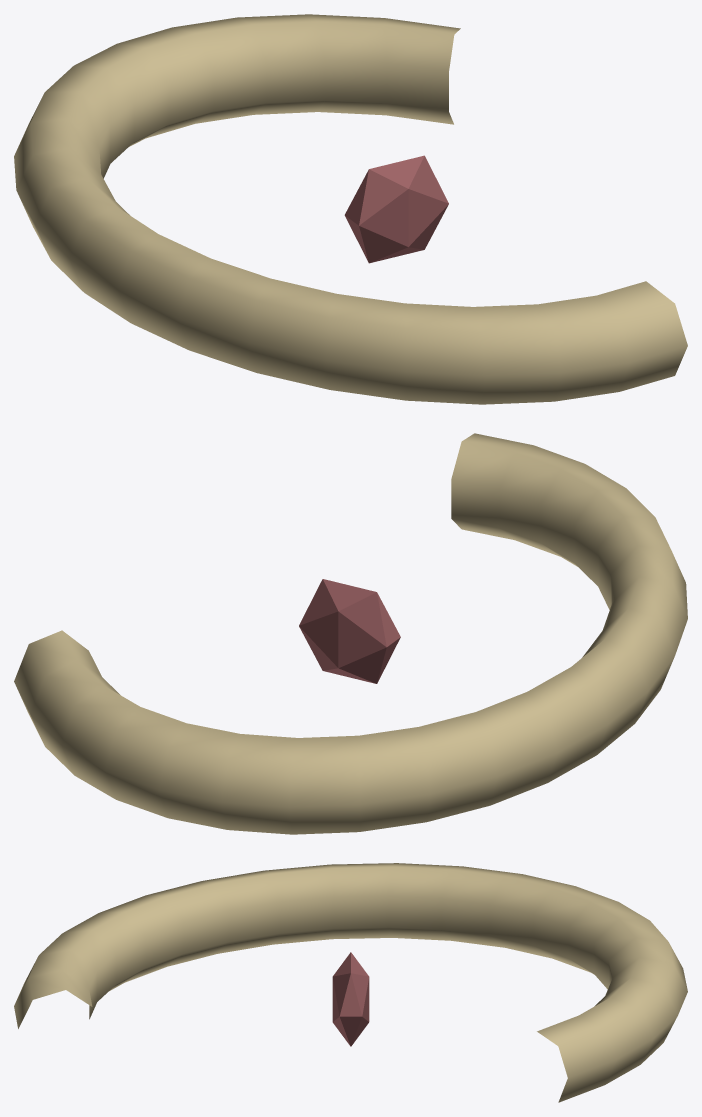
The model's file is wpn_m_09.glb.
The picture shows the model from 3 angles, top to bottom: view 1: azimuth 30°, elevation 25°; view 2: azimuth 150°, elevation 25°; view 3: azimuth 270°, elevation 25°; orthographic projection. The views are drawn at different scales.
Parts seen in each view (by area): view 1: attack_arc, attack_core; view 2: attack_arc, attack_core; view 3: attack_arc, attack_core.
Boxes of the visible parts, box(x1,y1,x2,y2) form: attack_arc: box(14, 14, 687, 404); attack_core: box(344, 155, 448, 263); attack_arc: box(14, 433, 687, 834); attack_core: box(299, 579, 400, 683); attack_arc: box(14, 863, 687, 1102); attack_core: box(332, 952, 369, 1046).
Bounding box in the file's own units: 0.8519 × 0.1531 × 1.27.
